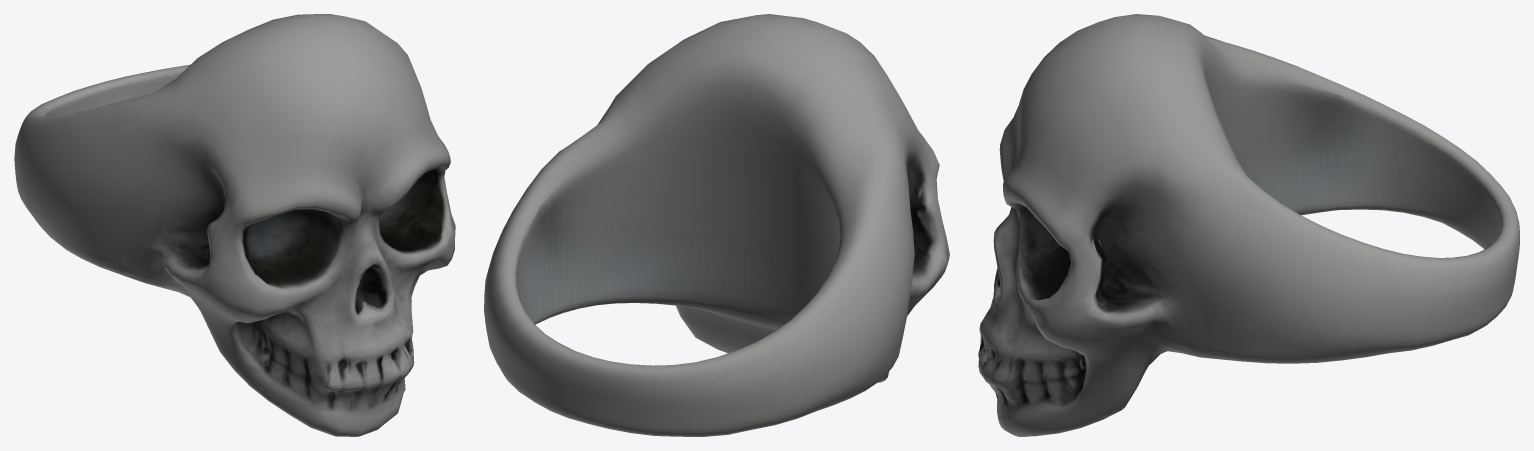
File: ring.fbx
The picture shows the model from 3 angles, left to right: view 1: azimuth 30°, elevation 25°; view 2: azimuth 150°, elevation 25°; view 3: azimuth 270°, elevation 25°; orthographic projection. The views are drawn at different scales.
Visible parts, largest first — view 1: tripo_node_c378baa9; view 2: tripo_node_c378baa9; view 3: tripo_node_c378baa9.
Part boxes in pixels (x1,y1,x2,y2): tripo_node_c378baa9: (14, 14, 455, 436); tripo_node_c378baa9: (484, 14, 949, 436); tripo_node_c378baa9: (978, 14, 1519, 436).
Size of the model in its own units: 0.7866 by 0.8081 by 0.9976.
1 material, 1 textured.
